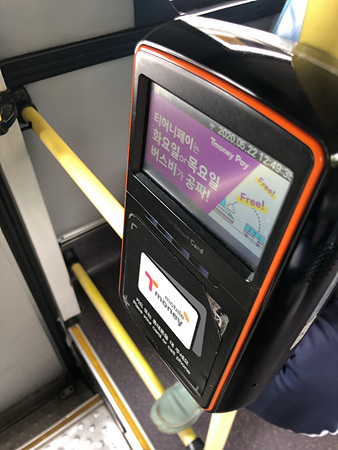terminal: (128, 19, 336, 419)
